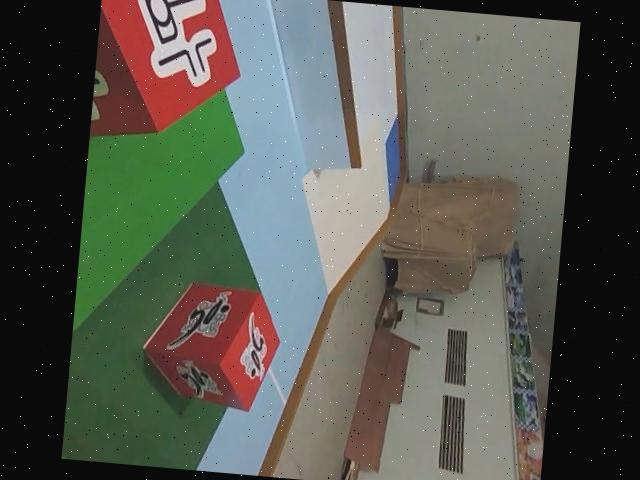R1: (136, 279, 283, 415)
R2 Real: (89, 0, 249, 147)
